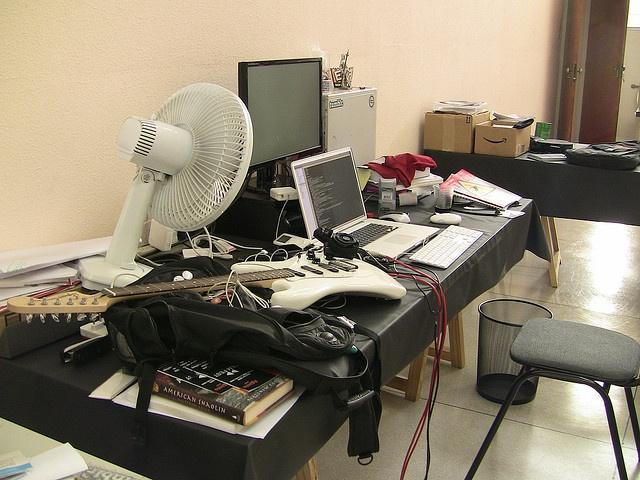AIO PC-Monitor-TV: (237, 55, 325, 174)
